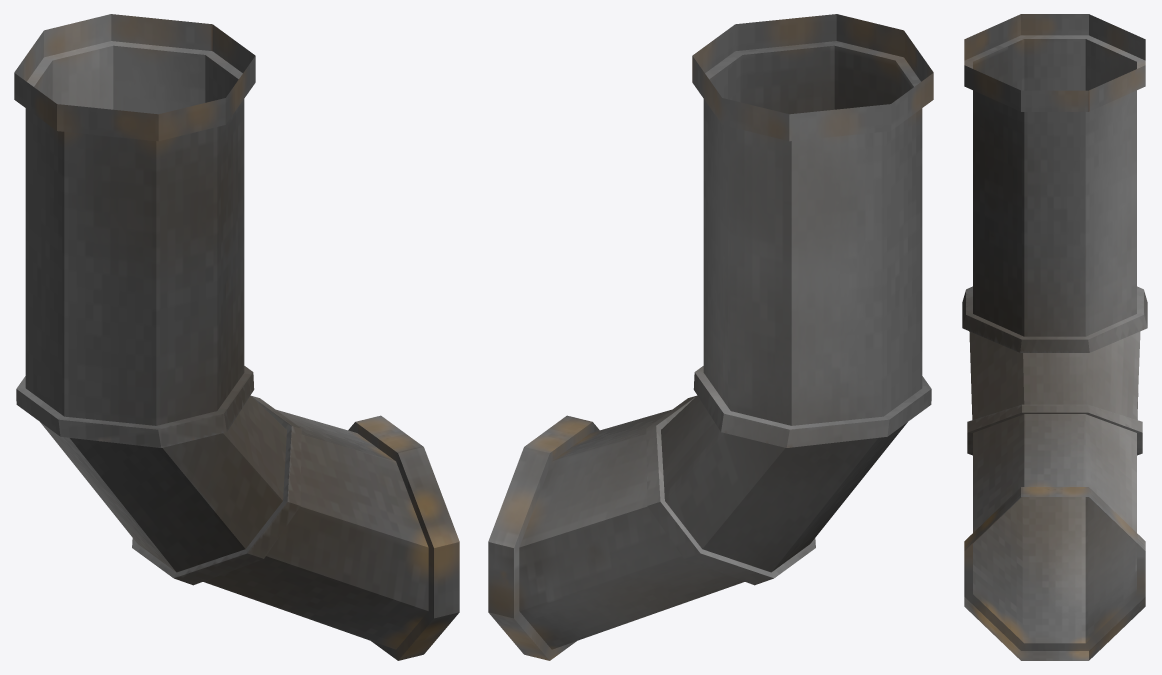
The model's file is izognutaya truba fbx.fbx.
3 views of the same model, side by side, from view 1: azimuth 30°, elevation 25°; view 2: azimuth 150°, elevation 25°; view 3: azimuth 270°, elevation 25° (orthographic). The views are drawn at different scales.
Parts seen in each view (by area): view 1: Cube.022; view 2: Cube.022; view 3: Cube.022.
Part boxes in pixels (x1=…): Cube.022: x1=14, y1=14, x2=459, y2=660; Cube.022: x1=488, y1=14, x2=933, y2=660; Cube.022: x1=962, y1=14, x2=1147, y2=660.
Bounding box in the file's own units: 124 × 207 × 68.74.
